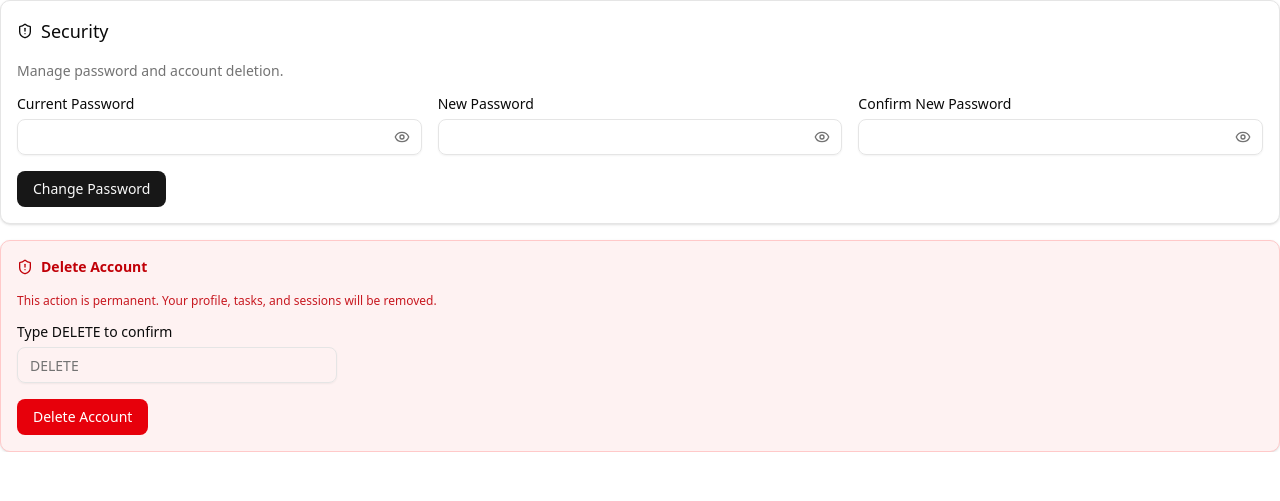
SecuritySettings Component › shows error when new password and confirmation do not match
Type "currentPass" into the password field labelled "Current Password".
click(219, 137); type("currentPass")  # box [17, 119, 422, 155]
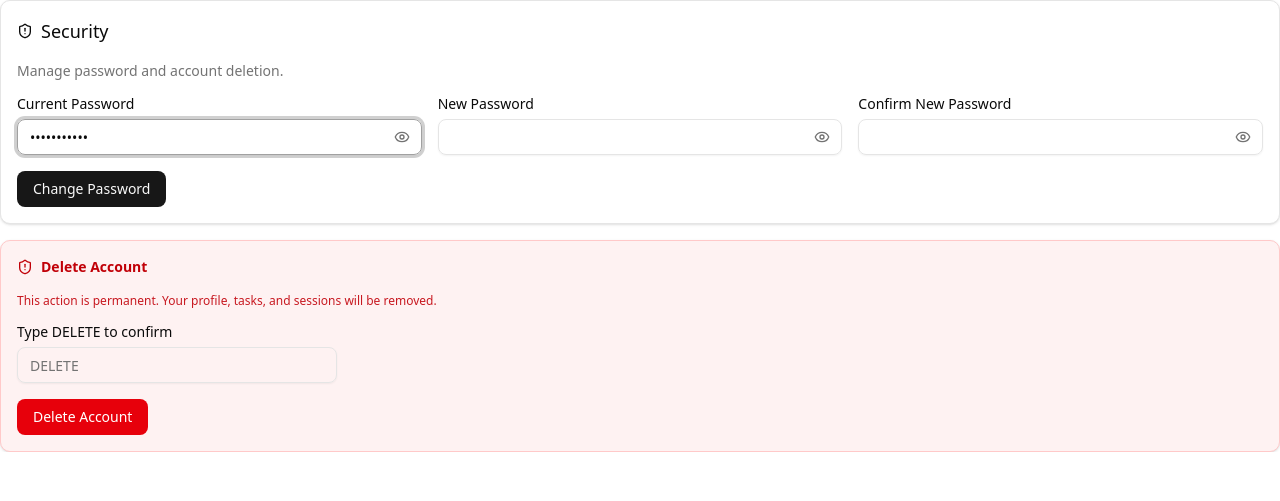
Type "newPassword1" into the password field labelled "New Password".
click(640, 137); type("newPassword1")  # box [438, 119, 842, 155]
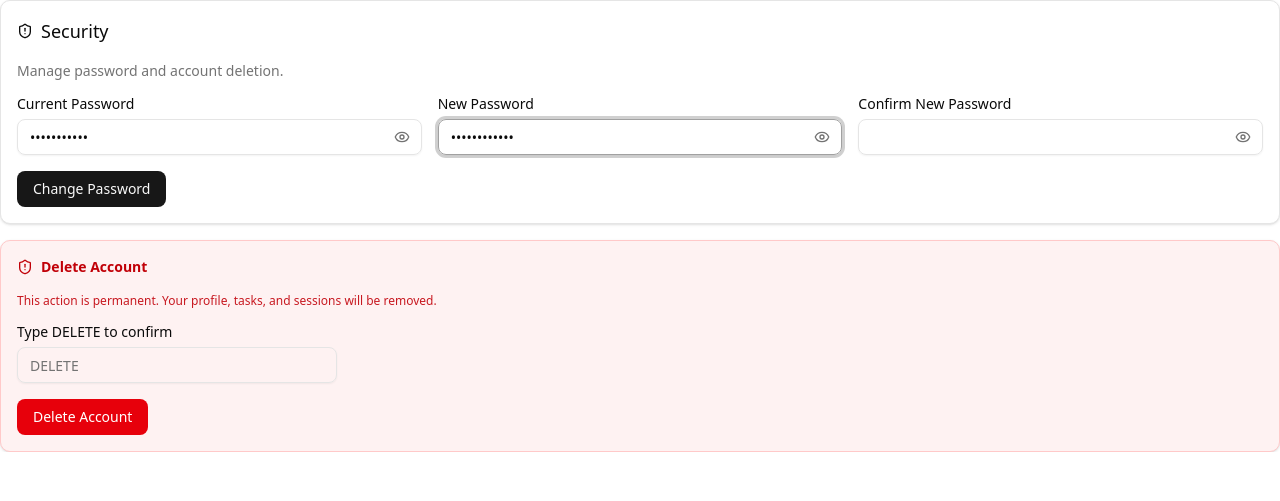
Type "differentPassword" into the password field labelled "Confirm New Password".
click(1061, 137); type("differentPassword")  # box [858, 119, 1263, 155]
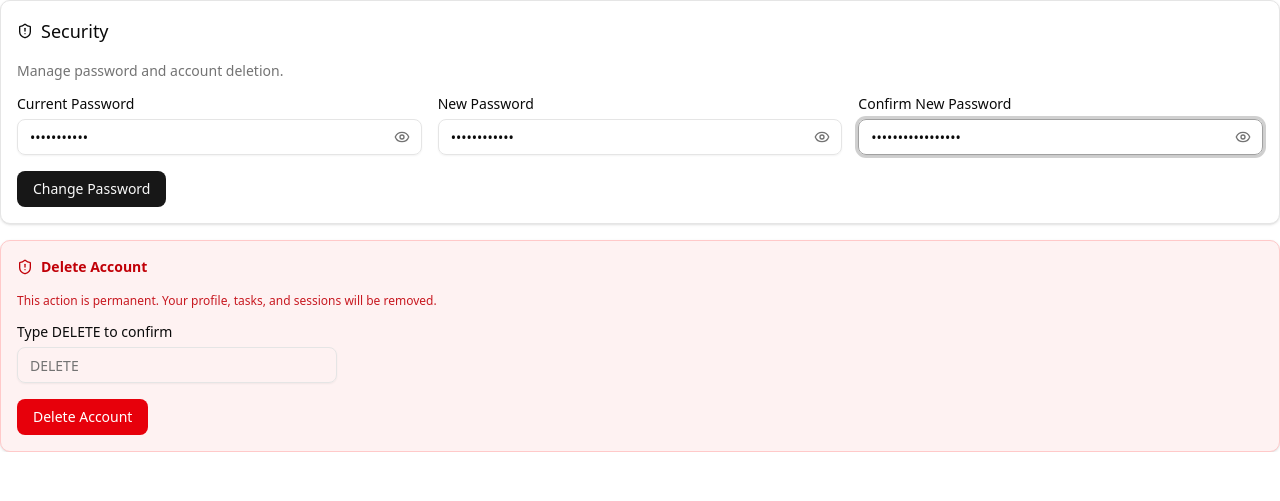
Click the button "Change Password".
click(92, 189)  # box [17, 171, 166, 207]
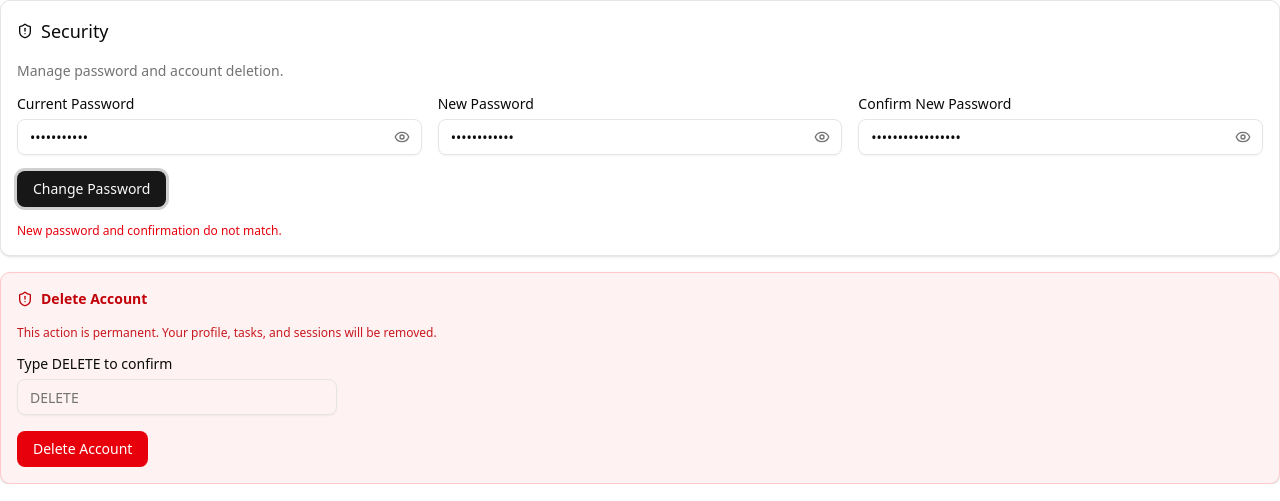
Expected: the text "New password and confirmation do not match." is shown, [17, 222, 282, 239]
